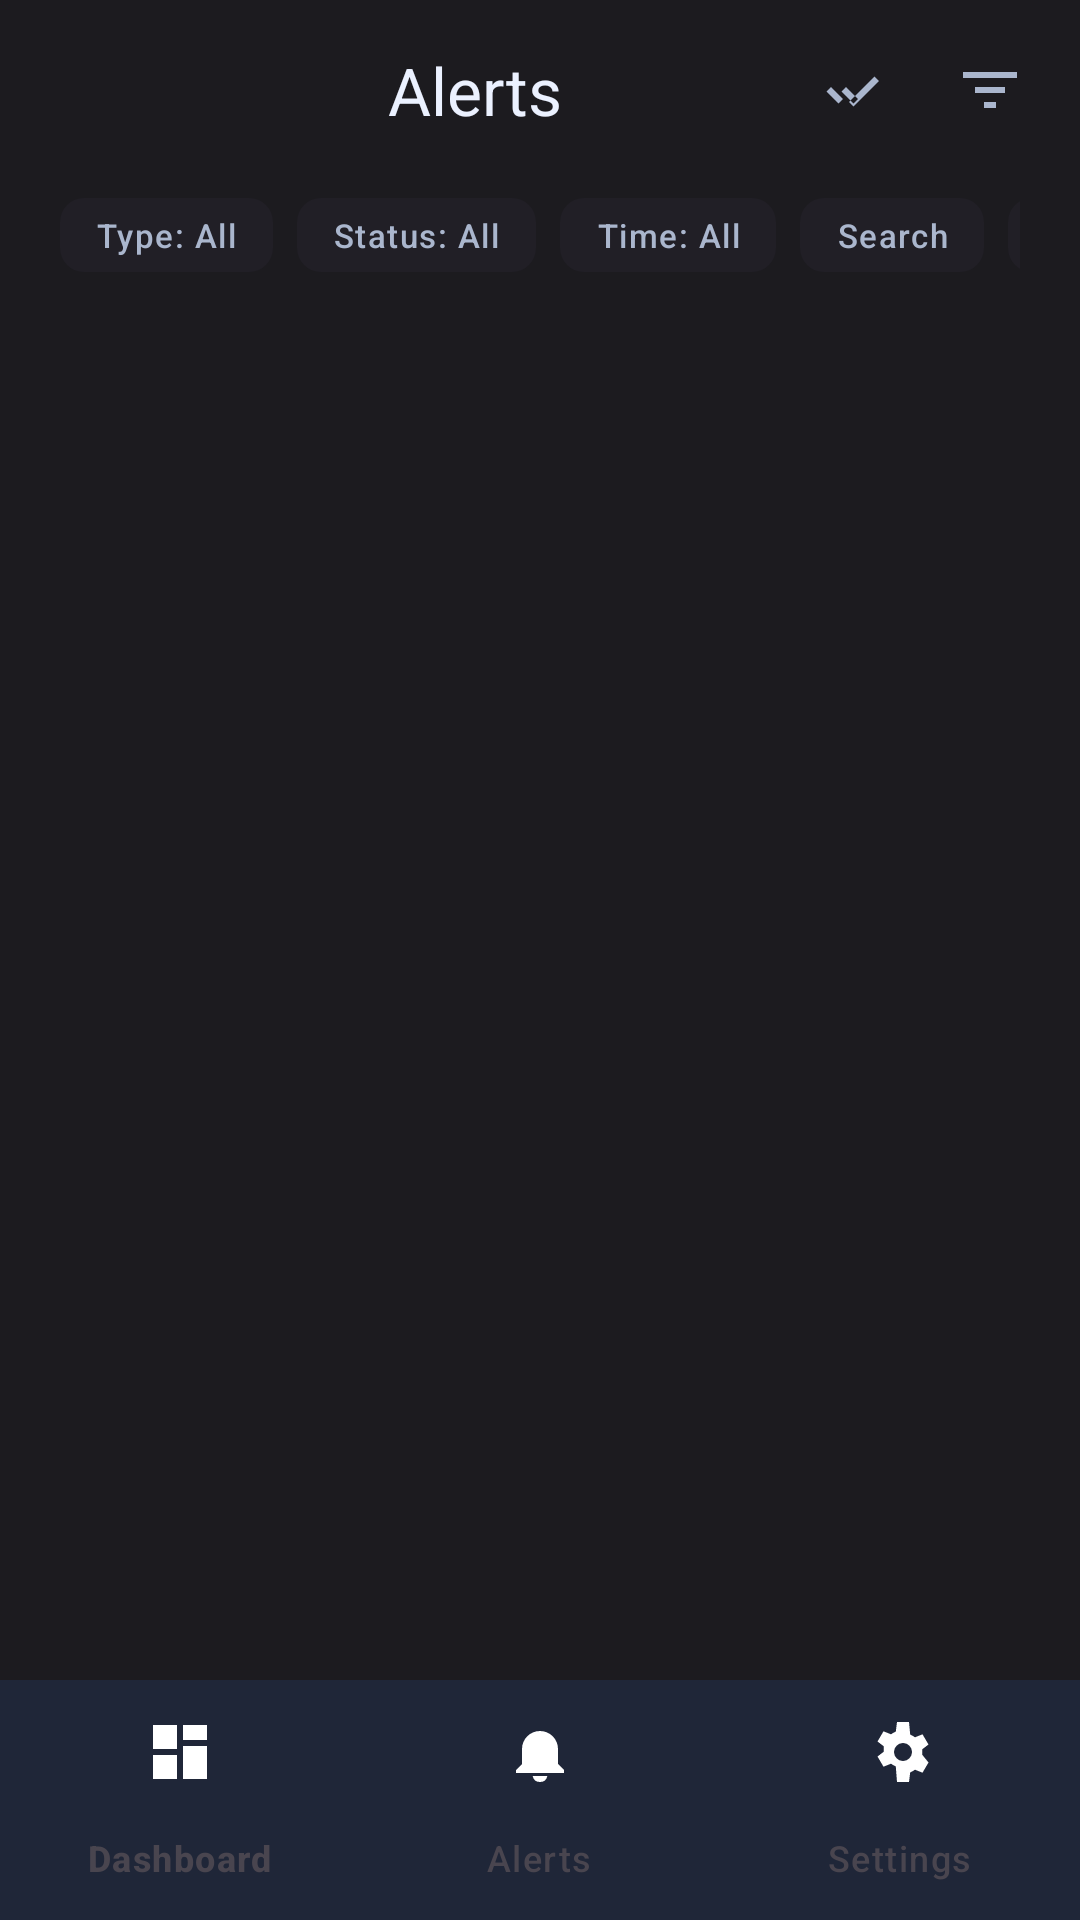

Screen size 1080 × 1920. Icon name, then its center in pixels as (x,y):
Filter: (990,90)
Mark all: (852,91)
